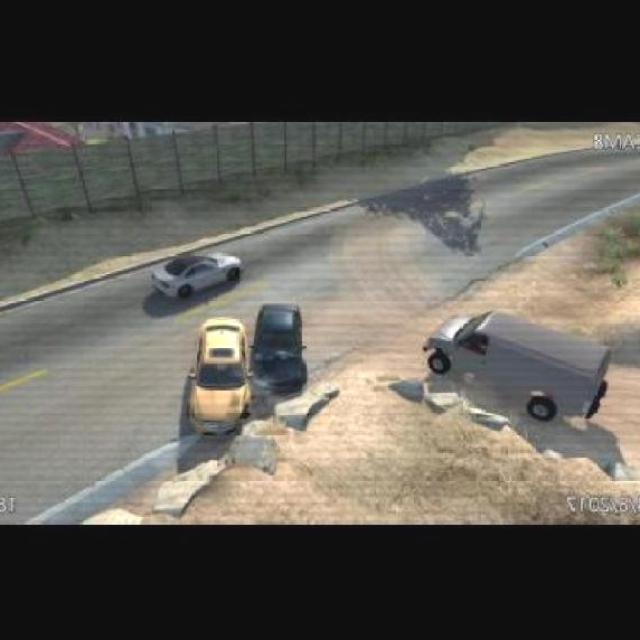accident: (186, 291, 310, 436)
